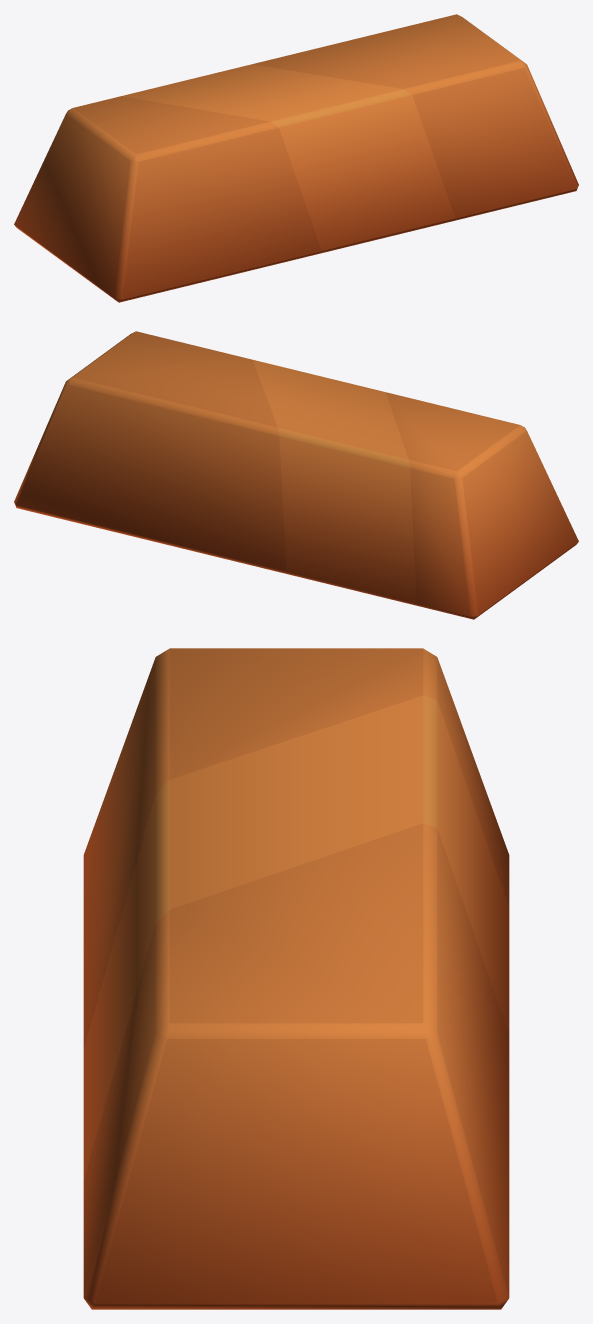
File: Ingot_Copper_1.glb
The picture shows the model from 3 angles, top to bottom: view 1: azimuth 30°, elevation 25°; view 2: azimuth 150°, elevation 25°; view 3: azimuth 270°, elevation 25°; orthographic projection. The views are drawn at different scales.
Visible parts, largest first — view 1: Ingot_Coper_1; view 2: Ingot_Coper_1; view 3: Ingot_Coper_1.
Part boxes in pixels (x1=…): Ingot_Coper_1: x1=14, y1=14, x2=578, y2=302; Ingot_Coper_1: x1=14, y1=331, x2=578, y2=619; Ingot_Coper_1: x1=83, y1=648, x2=509, y2=1309.
Bounding box in the file's own units: 0.994 × 0.256 × 0.3944.
